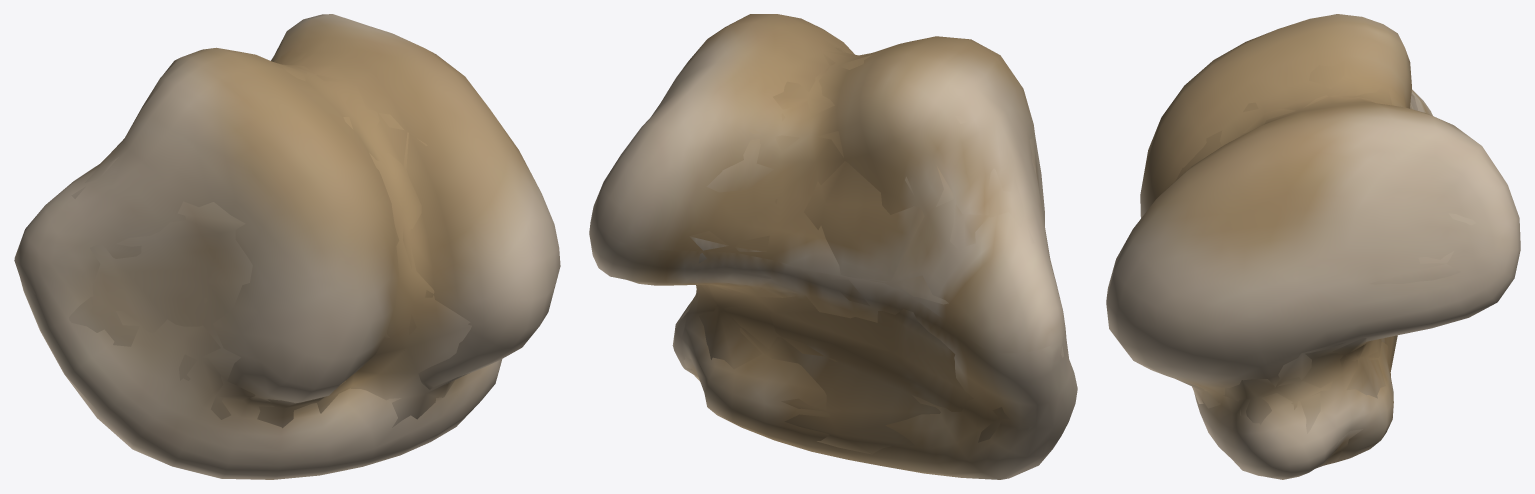
File: R talus.fbx
3 renders of one model, left to right at view 1: azimuth 30°, elevation 25°; view 2: azimuth 150°, elevation 25°; view 3: azimuth 270°, elevation 25°, orthographic. The views are drawn at different scales.
Visible parts, largest first — view 1: R talus, R talus low; view 2: R talus, R talus low; view 3: R talus, R talus low.
Part boxes in pixels (x1,y1,x2,y2): R talus: (14, 14, 560, 479); R talus low: (29, 48, 471, 428); R talus: (589, 14, 1077, 479); R talus low: (681, 46, 1063, 454); R talus: (1106, 14, 1520, 479); R talus low: (1176, 61, 1476, 468).
Size of the model in its own units: 8.2 by 7.14 by 7.13.
